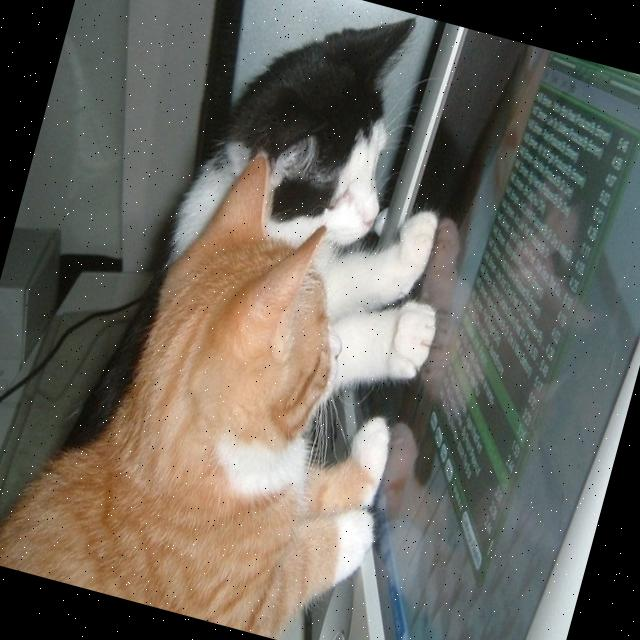cat: (0, 113, 461, 640), (83, 0, 509, 529)
